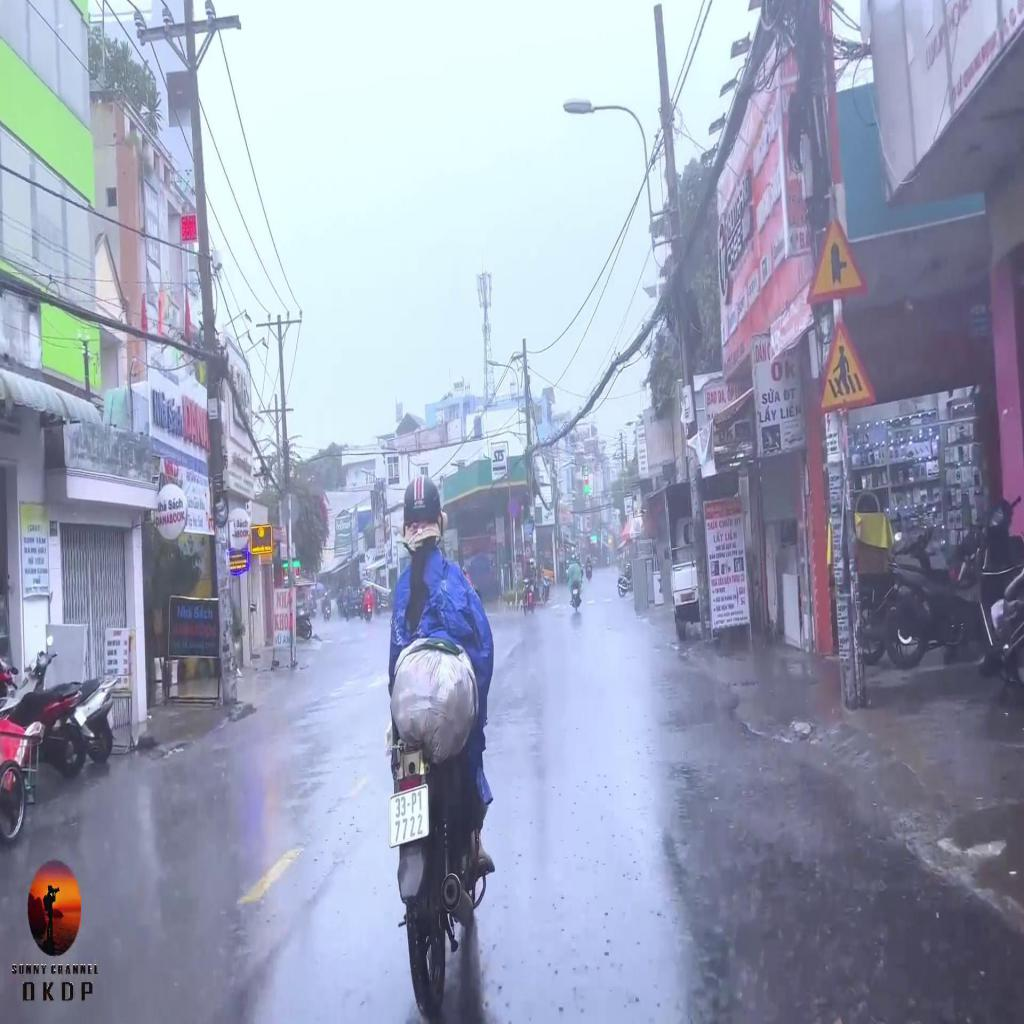chu_y_nguoi_di_bo_cat_ngang: (817, 318, 878, 410)
giao_nhau_voi_duong_khong_uu_tien: (806, 212, 870, 304)
